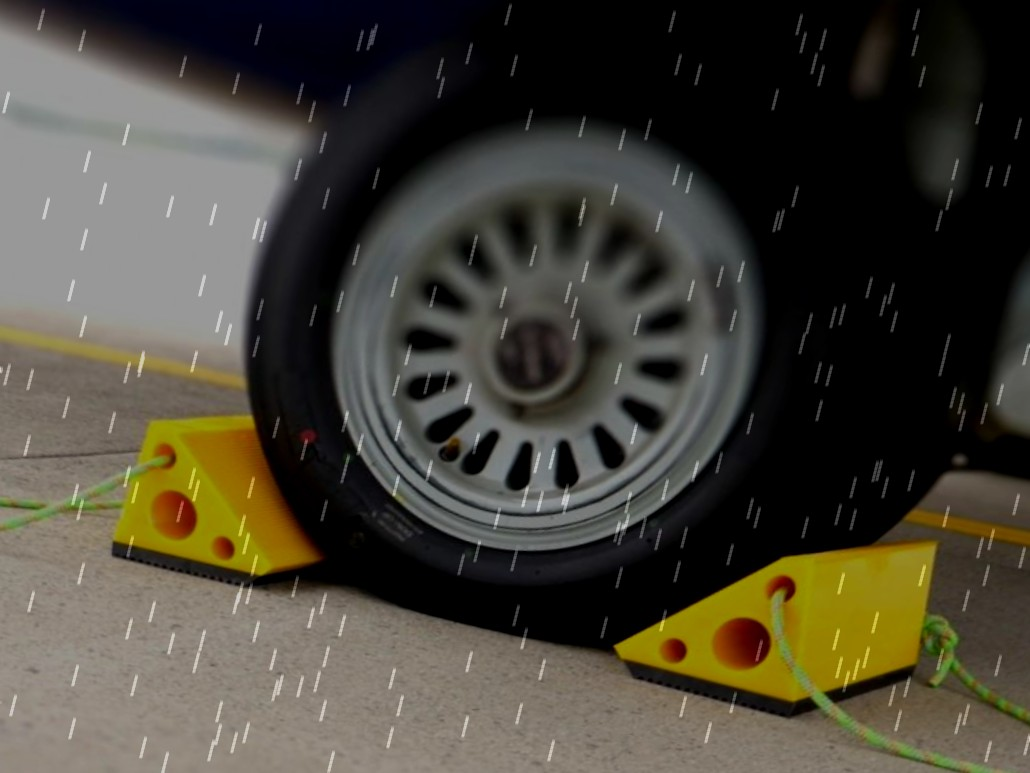chock: (591, 475, 984, 745), (89, 375, 366, 611)
wheel: (177, 0, 1030, 701)
